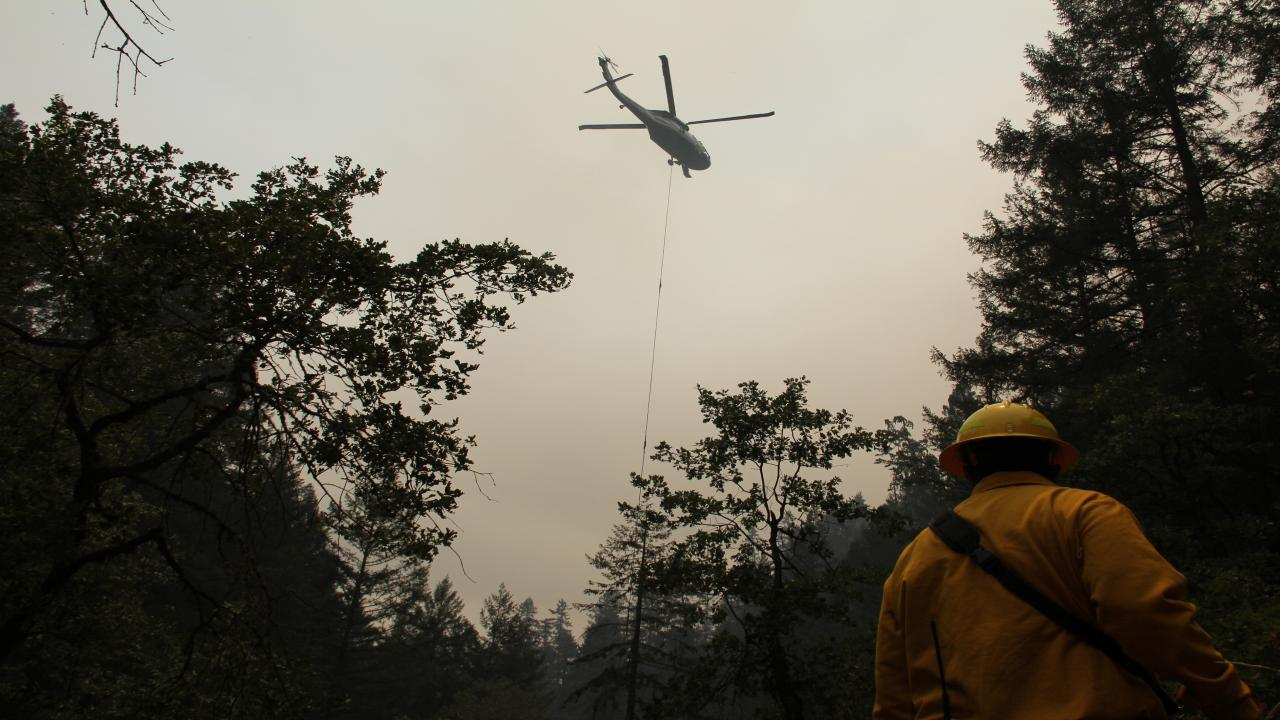Helicopter: (556, 38, 782, 197)
